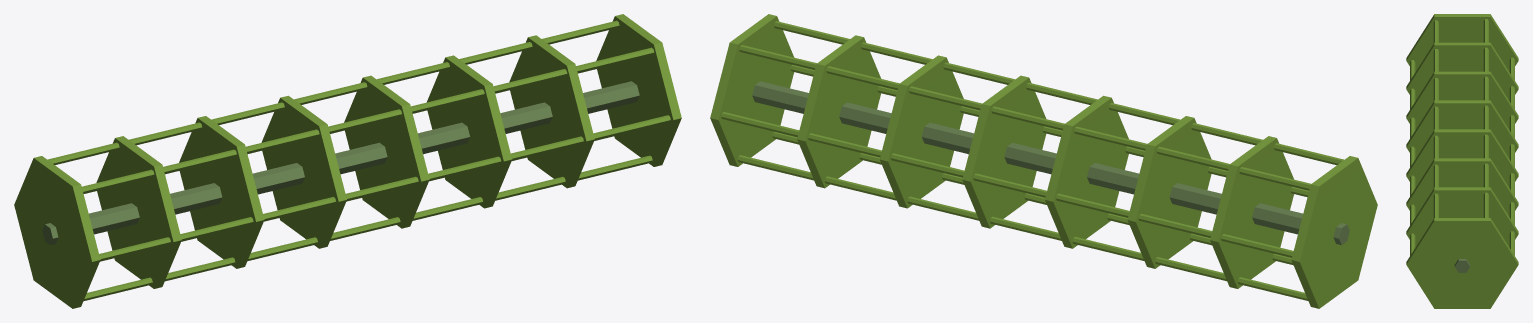
The model's file is HarvesterPart_03.fbx.
The picture shows the model from 3 angles, left to right: view 1: azimuth 30°, elevation 25°; view 2: azimuth 150°, elevation 25°; view 3: azimuth 270°, elevation 25°; orthographic projection. The views are drawn at different scales.
Parts seen in each view (by area): view 1: HarvesterPart_03; view 2: HarvesterPart_03; view 3: HarvesterPart_03.
Boxes of the visible parts, x1,y1,x2,y2 form: HarvesterPart_03: (14,14,681,308); HarvesterPart_03: (710,14,1377,308); HarvesterPart_03: (1406,14,1518,308).
Bounding box in the file's own units: 2.85 × 0.5558 × 0.6418.
